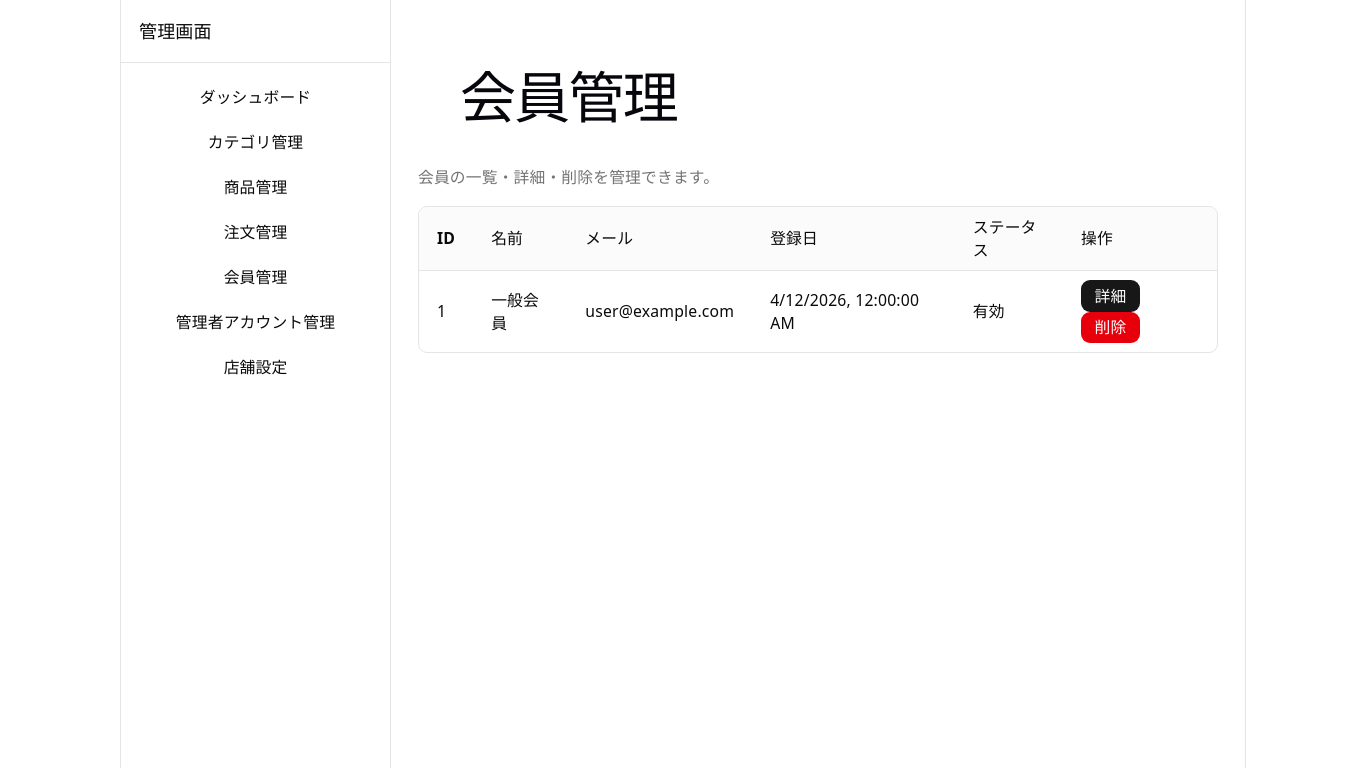
Test case: AdminMembersPage › 会員詳細の取得に失敗したとき、エラーメッセージが表示されること
This screenshot has width=1366, height=768.
Expected: the text "user@example.com" is shown, [567,271,752,352]
What coordinates should you click on to do the following:
click the button "詳細"
I would click on:
 (1110, 296)
Its box is [1081,280,1140,312].
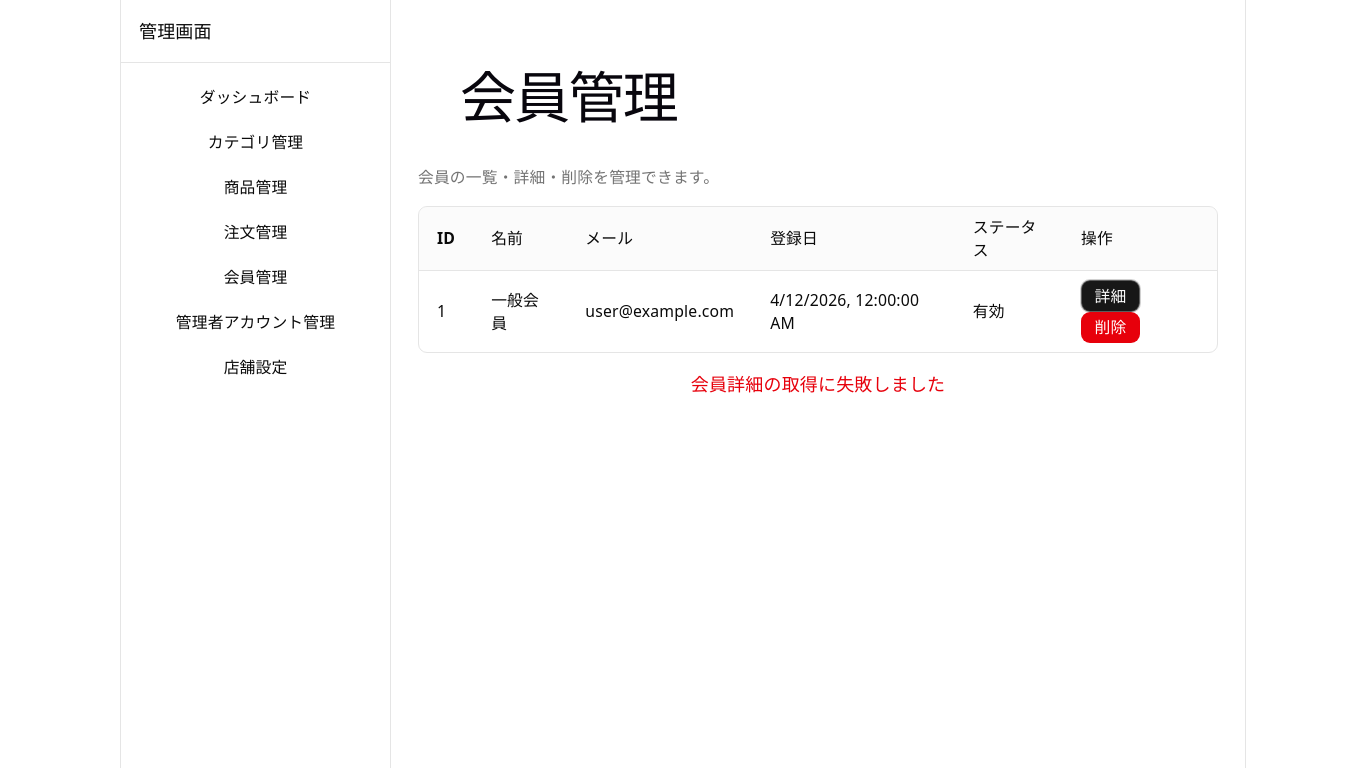
Expected: the text "会員詳細の取得に失敗しました" is shown, [691,372,945,396]
